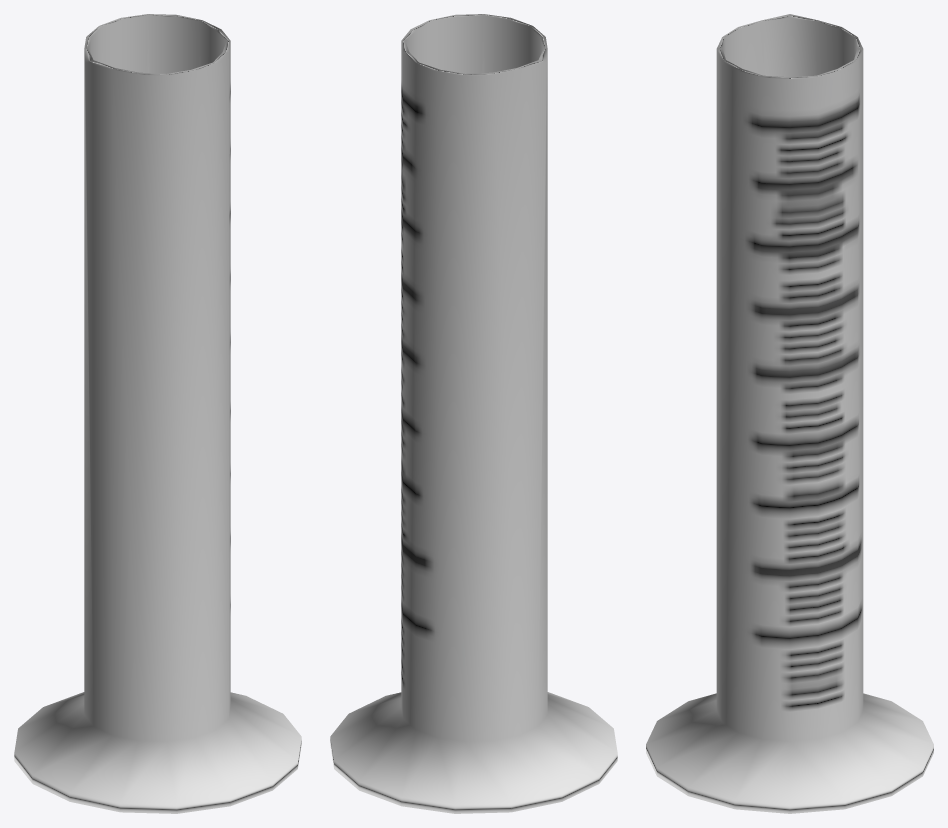
File: LabDesk_Object_GraduatedCylinderEmpty.fbx
3 renders of one model, left to right at view 1: azimuth 30°, elevation 25°; view 2: azimuth 150°, elevation 25°; view 3: azimuth 270°, elevation 25°, orthographic.
Parts seen in each view (by area): view 1: LabDesk_Object_GraduatedCylinderEmpty; view 2: LabDesk_Object_GraduatedCylinderEmpty; view 3: LabDesk_Object_GraduatedCylinderEmpty.
Boxes of the visible parts, left/top/right/bottom form: LabDesk_Object_GraduatedCylinderEmpty: left=14, top=14, right=301, bottom=813; LabDesk_Object_GraduatedCylinderEmpty: left=330, top=14, right=617, bottom=813; LabDesk_Object_GraduatedCylinderEmpty: left=646, top=14, right=933, bottom=813.
Size of the model in its own units: 5.11 by 13.8 by 5.11.
1 material, 1 textured.
